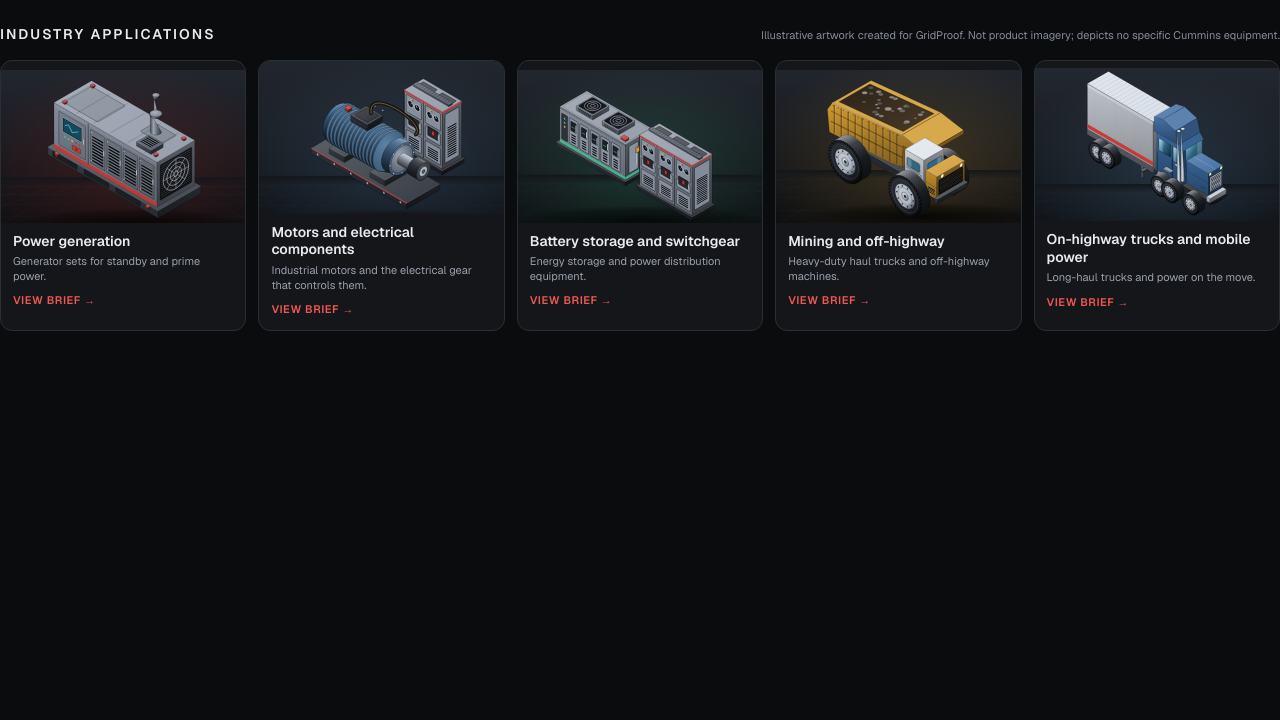
Scenario: application brief dialog › opens the Power generation brief with summary and 2-4 considerations
The width and height of the screenshot is (1280, 720).
Click the button "Power generation". click: click(123, 195)
box: [0,60,246,330]
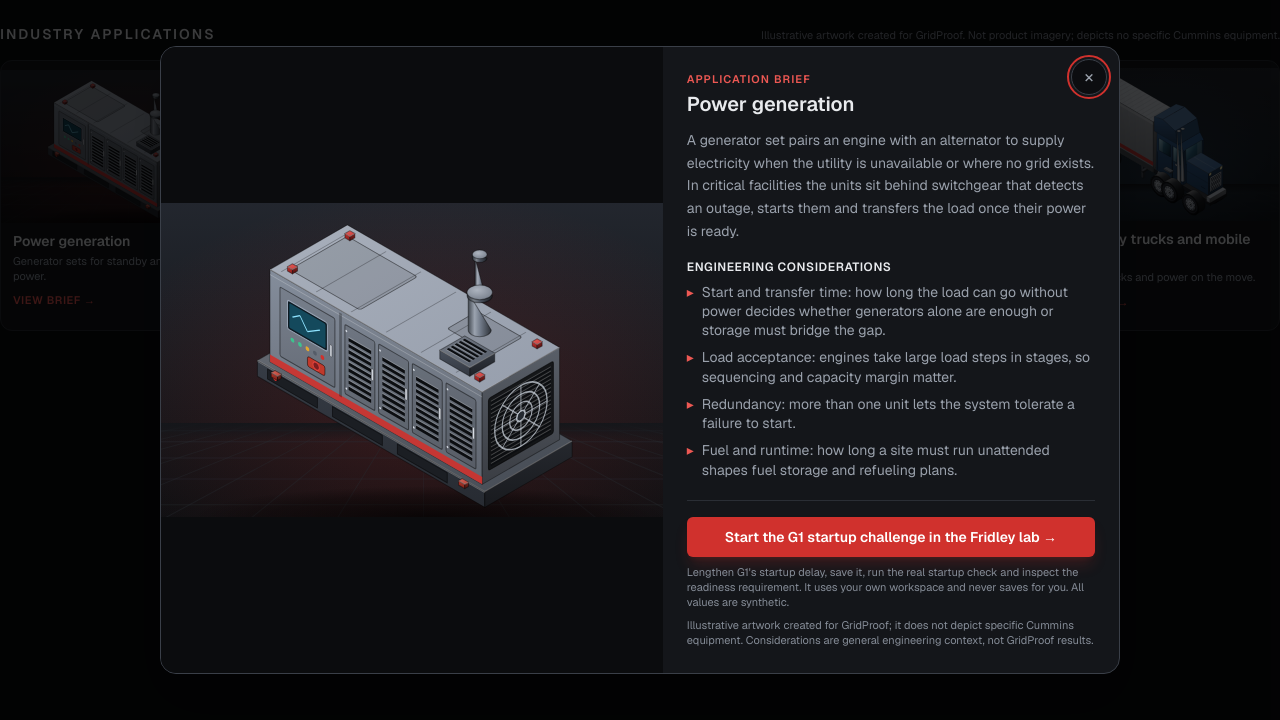
Expected: the text "A generator set pairs an engine with an alternator to supply electricity when the utility is unavailable or where no gri" is shown, [687,131,1094,240]
Expected: the text "does not depict specific Cummins equipment" is shown, [687,618,1093,647]
